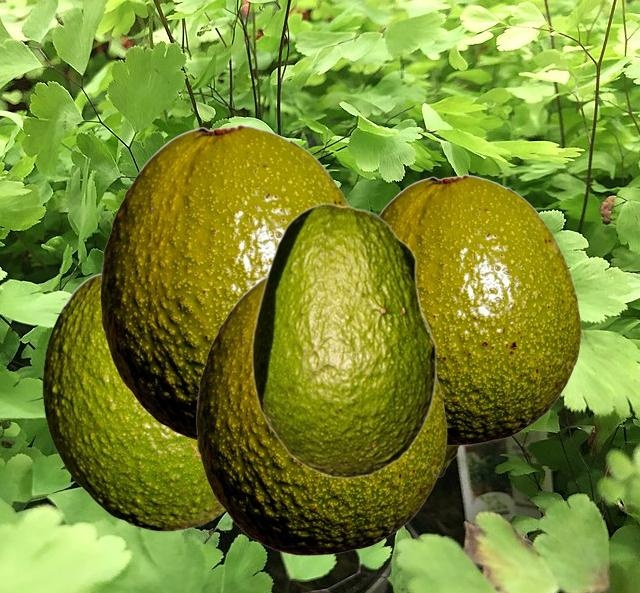avocado: (100, 124, 349, 442), (196, 275, 446, 554), (379, 174, 580, 444), (251, 202, 436, 478), (42, 272, 225, 530)
